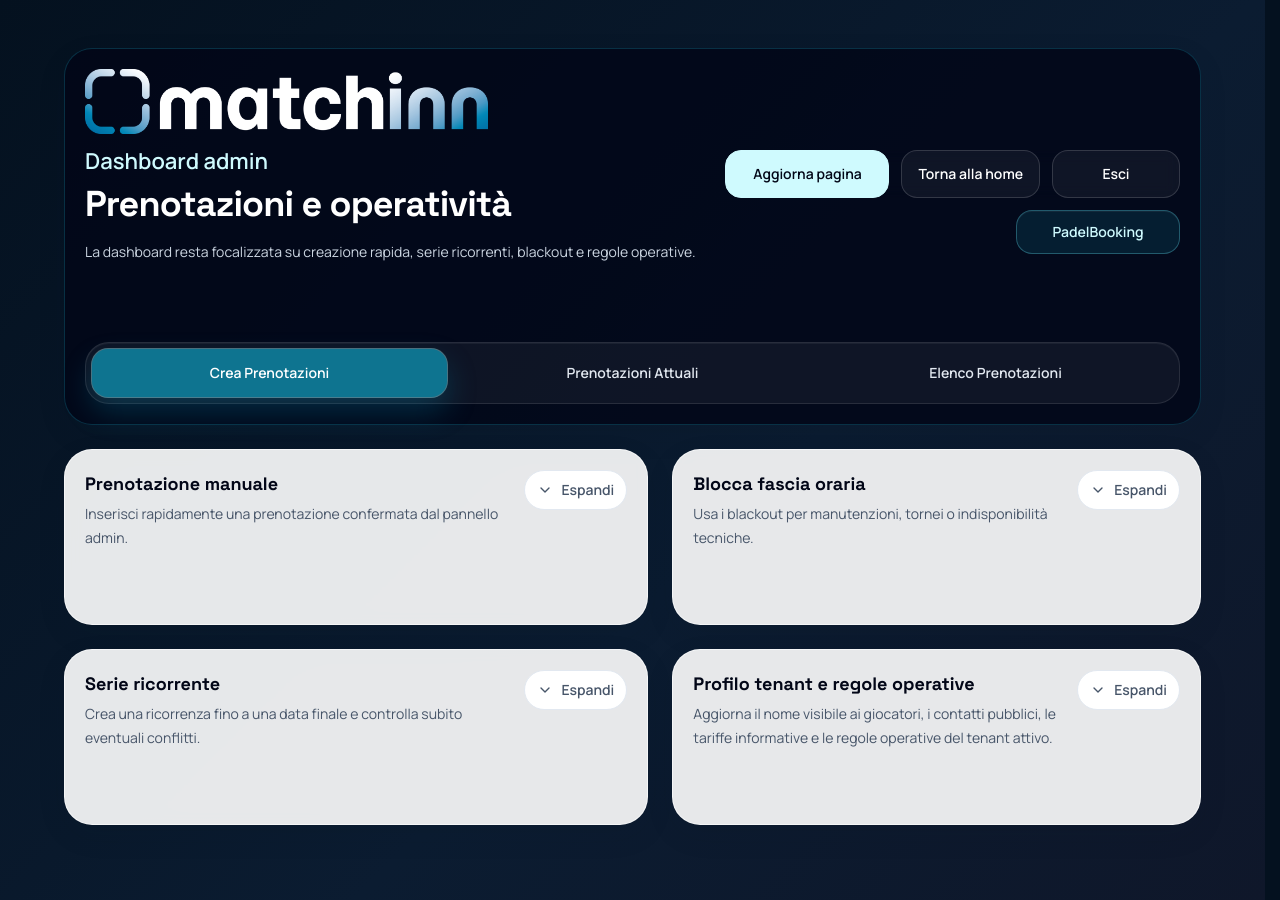
Test case: AdminDashboardPage › renders recurring weekday labels without hardcoded Europe/Rome formatters
Expected: the text "Dashboard admin" is shown, [85, 146, 268, 176]
Click the button with aria-label "Espandi Serie ricorrente". click: (576, 690)
box: [524, 670, 627, 710]
(page scrolled)
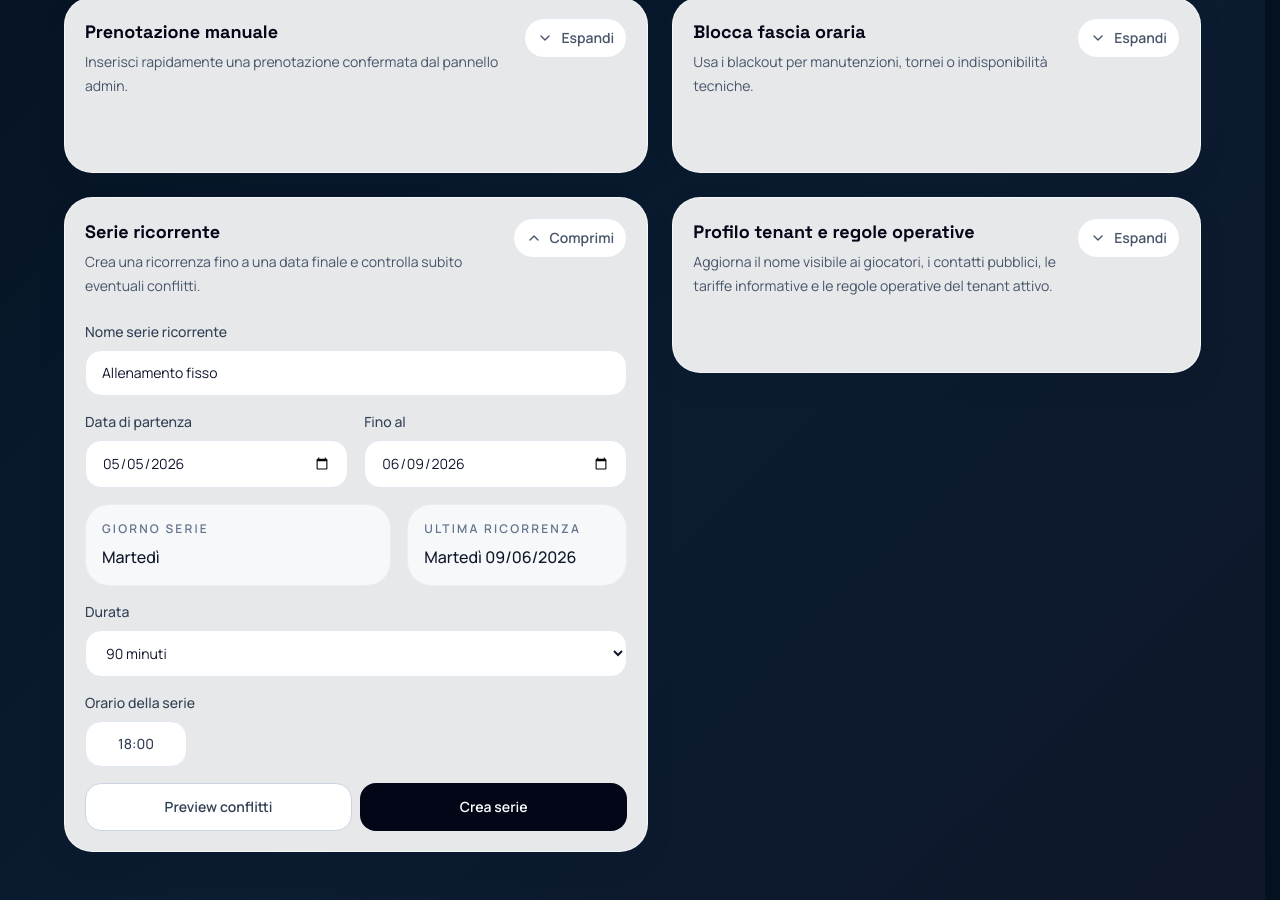
Expected: the text "Serie ricorrente" is shown, [85, 220, 220, 243]
Expected: the button "18:00" is shown, [85, 721, 187, 767]
Type "2026-10-25" into the date field labelled "Data di partenza". click: (217, 464)
box: [85, 440, 348, 488]
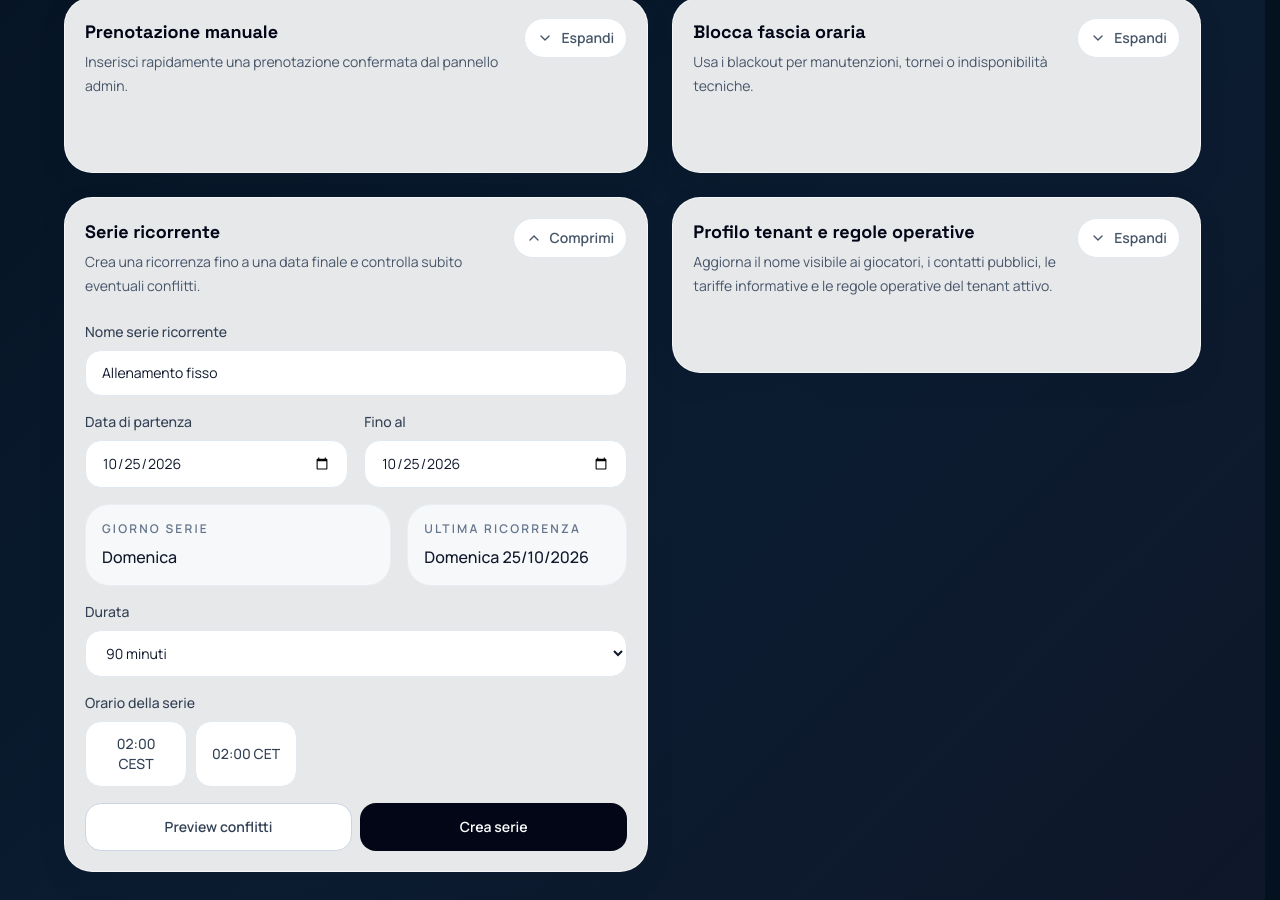
Expected: the button "02:00 CET" is shown, [195, 721, 297, 787]
Expected: the text "Domenica" is shown, [102, 546, 177, 568]
